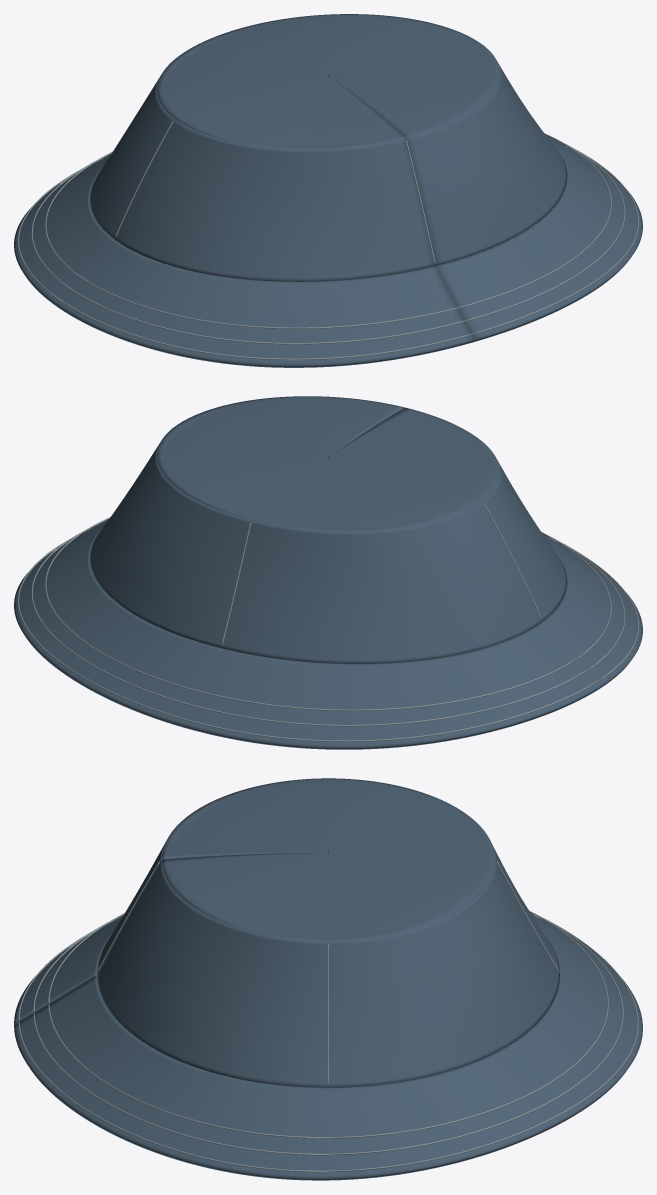
File: Masculine-bucket-headgear.glb
3 views of the same model, one above another, from view 1: azimuth 30°, elevation 25°; view 2: azimuth 150°, elevation 25°; view 3: azimuth 270°, elevation 25° (orthographic). The views are drawn at different scales.
Visible parts, largest first — view 1: 226 headgear / Headwear / bucket fabric235, 226 headgear / Headwear / bucket stitch235; view 2: 226 headgear / Headwear / bucket fabric235, 226 headgear / Headwear / bucket stitch235; view 3: 226 headgear / Headwear / bucket fabric235, 226 headgear / Headwear / bucket stitch235.
Boxes of the visible parts, x1,y1,x2,y2 form: 226 headgear / Headwear / bucket fabric235: (14,14,642,367); 226 headgear / Headwear / bucket stitch235: (18,45,638,360); 226 headgear / Headwear / bucket fabric235: (14,396,642,749); 226 headgear / Headwear / bucket stitch235: (18,428,638,741); 226 headgear / Headwear / bucket fabric235: (14,778,642,1180); 226 headgear / Headwear / bucket stitch235: (18,861,638,1172).
Size of the model in its own units: 1.35 by 0.3861 by 1.21.
